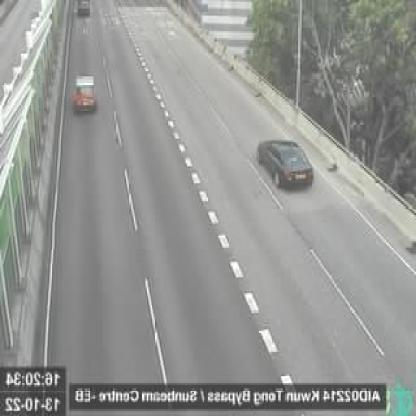Car: (255, 138, 313, 195), (73, 72, 96, 113), (79, 1, 91, 17)
